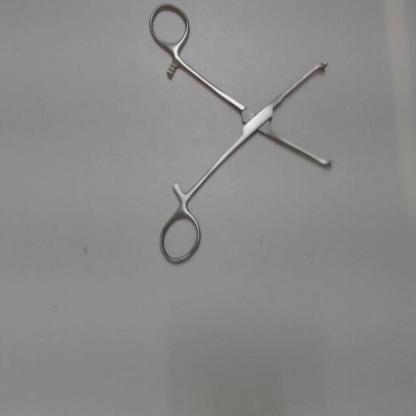Allis Tissue Forceps: (147, 1, 339, 266)
